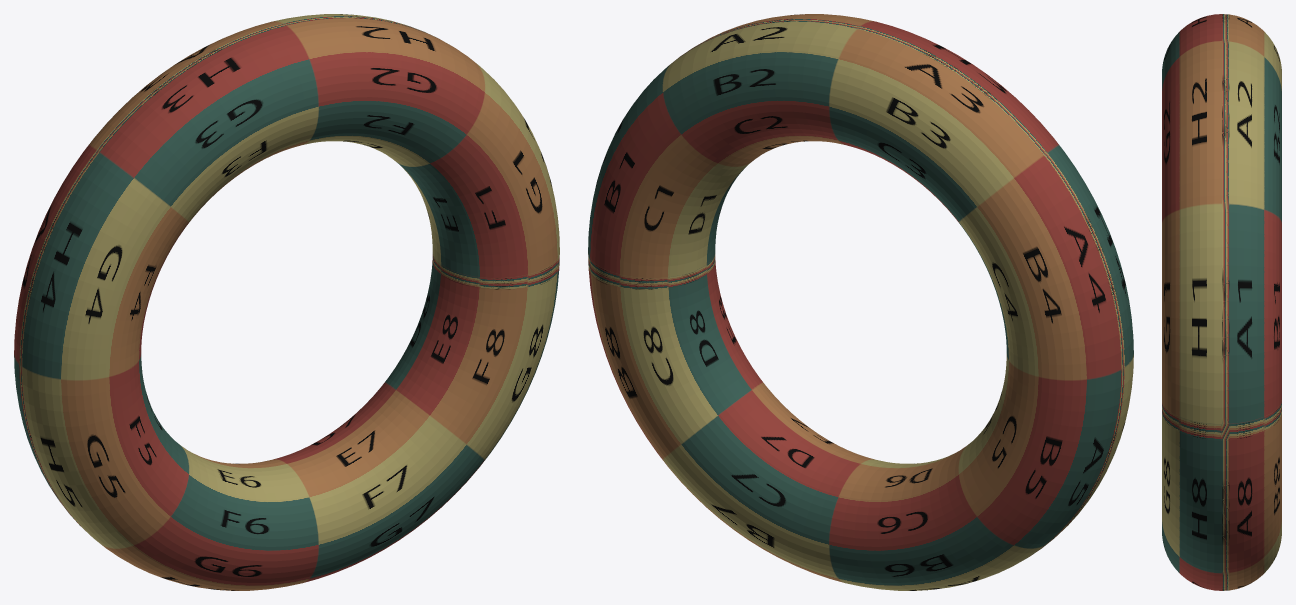
Rendered from texture_torus_R5_r4.glb.
The picture shows the model from 3 angles, left to right: view 1: azimuth 30°, elevation 25°; view 2: azimuth 150°, elevation 25°; view 3: azimuth 270°, elevation 25°; orthographic projection. The views are drawn at different scales.
Parts seen in each view (by area): view 1: world; view 2: world; view 3: world.
Boxes of the visible parts, box(x1,y1,x2,y2) form: world: box(14, 14, 559, 590); world: box(588, 14, 1133, 590); world: box(1162, 14, 1281, 590).
Bounding box in the file's own units: 26.67 × 26.67 × 5.54.
1 material, 1 textured.
